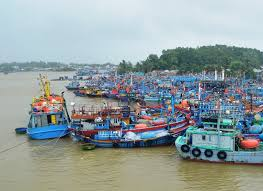tau_dansu: (176, 123, 263, 165), (82, 115, 188, 149), (24, 80, 72, 142), (73, 107, 160, 138)
